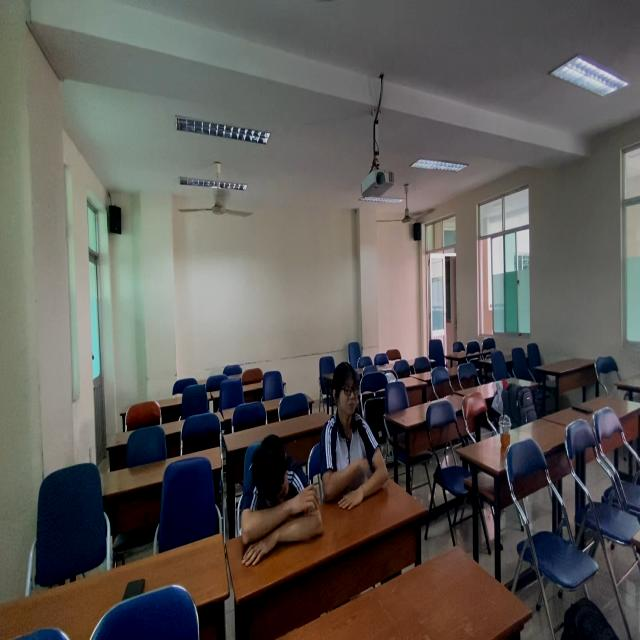sleep: (234, 437, 328, 553)
